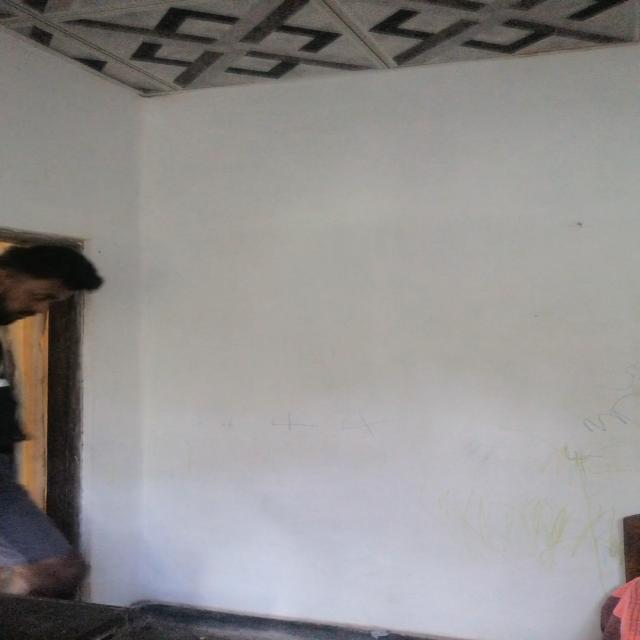Person: (6, 241, 130, 620)
